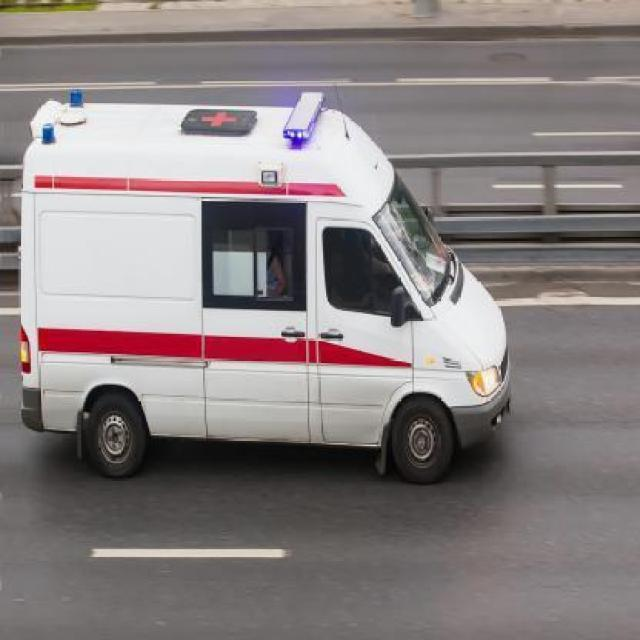emergency: (15, 88, 512, 484)
